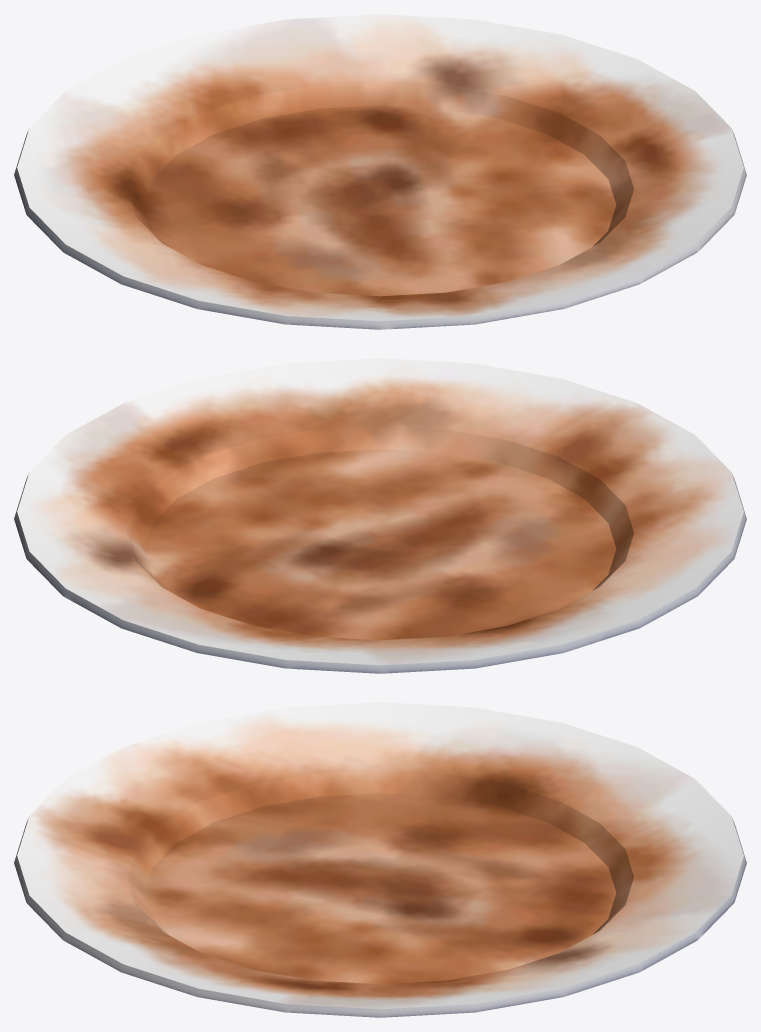
File: dirtyPlate.gltf
3 renders of one model, top to bottom at view 1: azimuth 30°, elevation 25°; view 2: azimuth 150°, elevation 25°; view 3: azimuth 270°, elevation 25°, orthographic.
Parts seen in each view (by area): view 1: Object_5.001, Object_5.005; view 2: Object_5.001, Object_5.005; view 3: Object_5.001, Object_5.005.
Part boxes in pixels (box(x1,y1,x2,y2)): Object_5.001: box(17, 14, 743, 321); Object_5.005: box(14, 129, 746, 329); Object_5.001: box(17, 358, 743, 665); Object_5.005: box(14, 473, 746, 673); Object_5.001: box(17, 702, 743, 1009); Object_5.005: box(14, 817, 746, 1017).
Size of the model in its own units: 1.5 by 0.1094 by 1.5.
2 materials, 2 textured.
